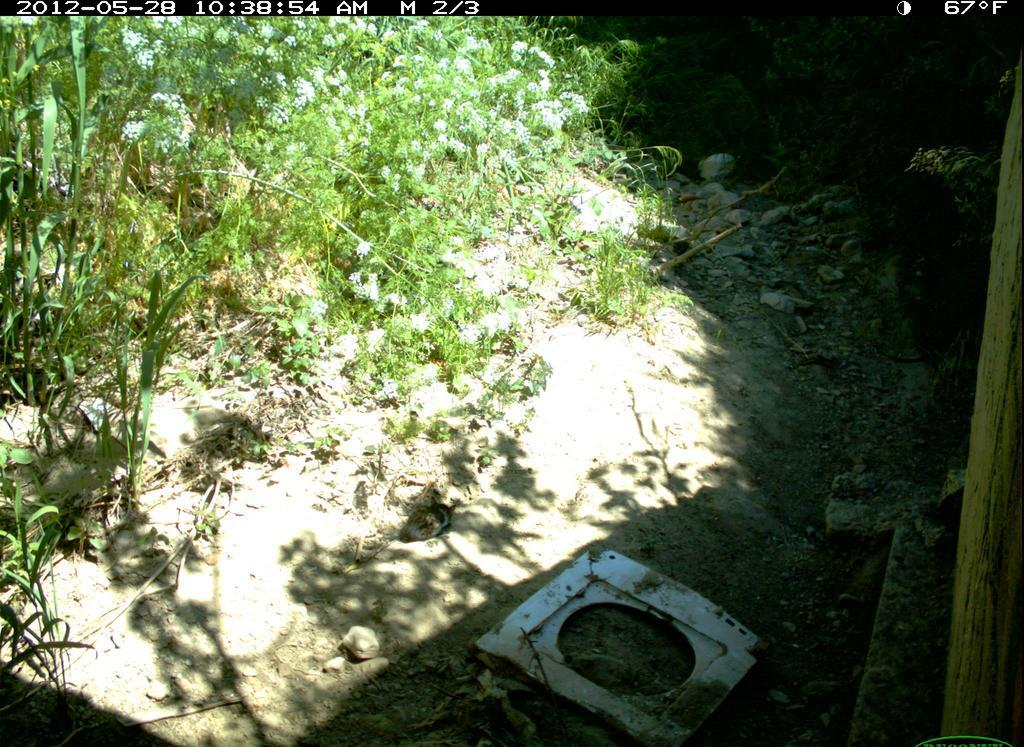cat: (392, 493, 469, 554)
